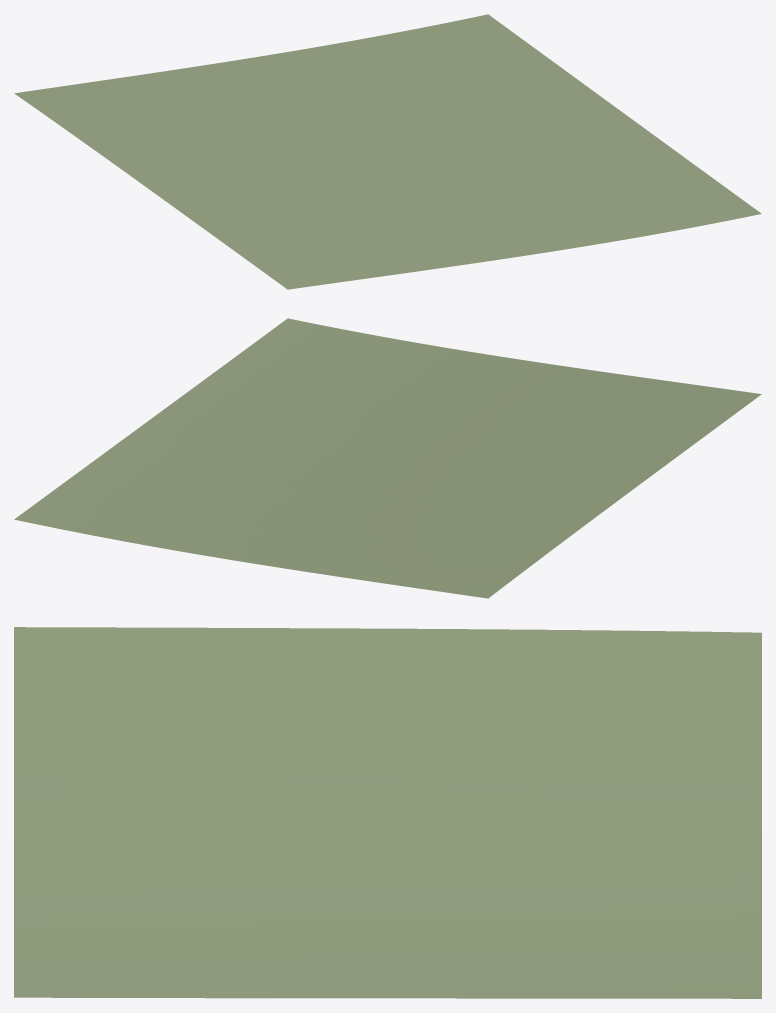
Rendered from valley-12-10.glb.
The picture shows the model from 3 angles, top to bottom: view 1: azimuth 30°, elevation 25°; view 2: azimuth 150°, elevation 25°; view 3: azimuth 270°, elevation 25°; orthographic projection. The views are drawn at different scales.
Visible parts, largest first — view 1: valley-12-10; view 2: valley-12-10; view 3: valley-12-10.
Boxes of the visible parts, x1,y1,x2,y2 form: valley-12-10: (14, 14, 761, 289); valley-12-10: (14, 318, 761, 598); valley-12-10: (14, 627, 761, 998).
Bounding box in the file's own units: 256 × 21.01 × 256.
